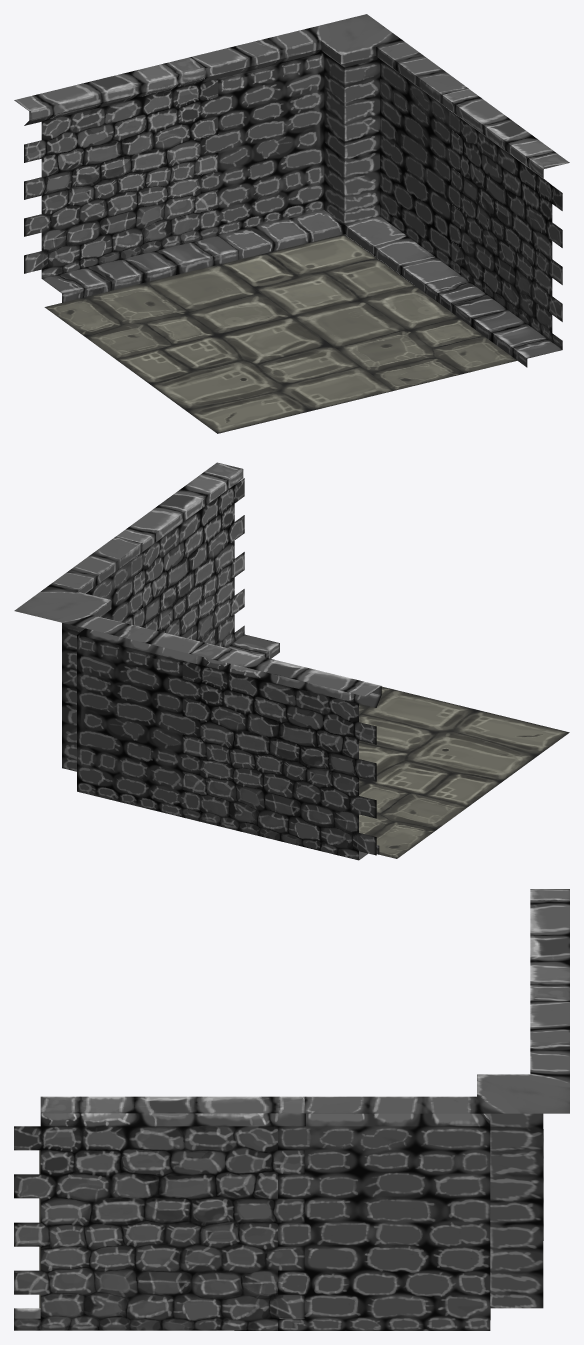
3 renders of one model, top to bottom at view 1: azimuth 30°, elevation 25°; view 2: azimuth 150°, elevation 25°; view 3: azimuth 270°, elevation 25°, orthographic. The views are drawn at different scales.
Visible parts, largest first — view 1: Object_6, Object_4, Object_5, Object_3, Object_2; view 2: Object_6, Object_4, Object_3, Object_5; view 3: Object_6, Object_4.
Part boxes in pixels (x1=…): Object_6: x1=14, y1=57, x2=569, y2=367; Object_4: x1=191, y1=14, x2=468, y2=292; Object_5: x1=44, y1=264, x2=517, y2=390; Object_3: x1=116, y1=316, x2=393, y2=433; Object_2: x1=221, y1=234, x2=415, y2=316; Object_6: x1=116, y1=462, x2=381, y2=860; Object_4: x1=14, y1=537, x2=204, y2=817; Object_3: x1=359, y1=689, x2=569, y2=806; Object_5: x1=359, y1=686, x2=467, y2=858; Object_6: x1=14, y1=889, x2=569, y2=1330; Object_4: x1=278, y1=1001, x2=569, y2=1330.
Size of the model in its own units: 4 by 2 by 4.19.
